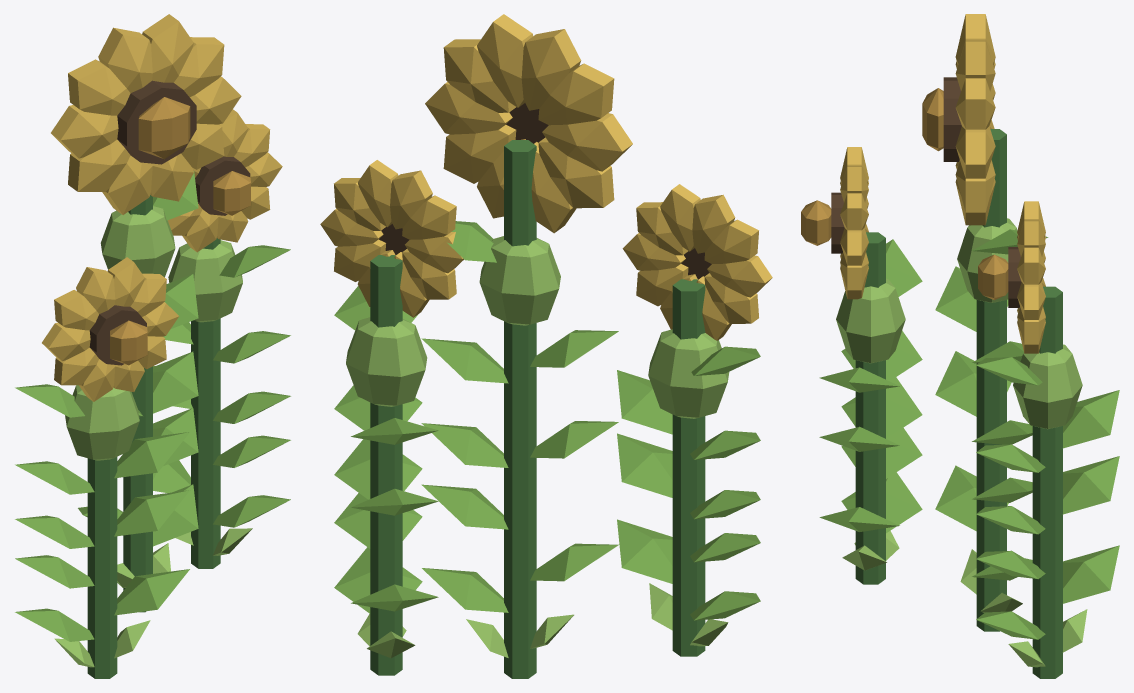
Rendered from sunflower.glb.
3 renders of one model, left to right at view 1: azimuth 30°, elevation 25°; view 2: azimuth 150°, elevation 25°; view 3: azimuth 270°, elevation 25°, orthographic. The views are drawn at different scales.
Parts seen in each view (by area): view 1: Sunflower_ripe_yellow_head, Sunflower_ripe_yellow_head.001, Sunflower_ripe_yellow_head.002, Sunflower_stem.007, Sunflower_stem.008, Sunflower_closed_bud.001, Sunflower_closed_bud, Sunflower_closed_bud.002, Sunflower_stem.011, Sunflower_stem.010, Sunflower_stem.005, Sunflower_seed_centre (+30 smaller); view 2: Sunflower_ripe_yellow_head, Sunflower_ripe_yellow_head.001, Sunflower_ripe_yellow_head.002, Sunflower_stem.009, Sunflower_stem.010, Sunflower_closed_bud.002, Sunflower_closed_bud, Sunflower_stem.006, Sunflower_closed_bud.001, Sunflower_stem.007, Sunflower_stem.008, Sunflower_stem.011 (+32 smaller); view 3: Sunflower_ripe_yellow_head, Sunflower_stem.009, Sunflower_stem.006, Sunflower_ripe_yellow_head.001, Sunflower_ripe_yellow_head.002, Sunflower_stem.007, Sunflower_stem.008, Sunflower_closed_bud.001, Sunflower_closed_bud.002, Sunflower_stem.010, Sunflower_stem.005, Sunflower_stem.011 (+34 smaller).
Boxes of the visible parts, left/top/right/bottom form: Sunflower_ripe_yellow_head: left=51, top=14, right=241, bottom=214; Sunflower_ripe_yellow_head.001: left=42, top=257, right=179, bottom=401; Sunflower_ripe_yellow_head.002: left=167, top=109, right=282, bottom=252; Sunflower_stem.007: left=87, top=457, right=117, bottom=677; Sunflower_stem.008: left=191, top=319, right=220, bottom=568; Sunflower_closed_bud.001: left=65, top=385, right=139, bottom=460; Sunflower_closed_bud: left=100, top=206, right=175, bottom=277; Sunflower_closed_bud.002: left=168, top=240, right=242, bottom=322; Sunflower_stem.011: left=191, top=238, right=220, bottom=568; Sunflower_stem.010: left=87, top=457, right=117, bottom=676; Sunflower_stem.005: left=191, top=448, right=220, bottom=568; Sunflower_seed_centre: left=138, top=97, right=190, bottom=159; Sunflower_ripe_yellow_head: left=425, top=14, right=632, bottom=233; Sunflower_ripe_yellow_head.001: left=622, top=184, right=772, bottom=340; Sunflower_ripe_yellow_head.002: left=320, top=160, right=463, bottom=317; Sunflower_stem.009: left=504, top=140, right=536, bottom=675; Sunflower_stem.010: left=672, top=279, right=705, bottom=655; Sunflower_closed_bud.002: left=346, top=317, right=427, bottom=406; Sunflower_closed_bud: left=479, top=236, right=560, bottom=325; Sunflower_stem.006: left=504, top=321, right=536, bottom=676; Sunflower_closed_bud.001: left=648, top=329, right=729, bottom=418; Sunflower_stem.007: left=672, top=414, right=705, bottom=656; Sunflower_stem.008: left=370, top=403, right=402, bottom=675; Sunflower_stem.011: left=370, top=255, right=402, bottom=674; Sunflower_ripe_yellow_head: left=943, top=14, right=995, bottom=225; Sunflower_stem.009: left=976, top=129, right=1006, bottom=629; Sunflower_stem.006: left=976, top=300, right=1006, bottom=629; Sunflower_ripe_yellow_head.001: left=831, top=147, right=868, bottom=299; Sunflower_ripe_yellow_head.002: left=1008, top=201, right=1045, bottom=353; Sunflower_stem.007: left=855, top=360, right=885, bottom=584; Sunflower_stem.008: left=1032, top=426, right=1062, bottom=626; Sunflower_closed_bud.001: left=836, top=278, right=905, bottom=363; Sunflower_closed_bud.002: left=1013, top=344, right=1082, bottom=429; Sunflower_stem.010: left=855, top=232, right=885, bottom=584; Sunflower_stem.005: left=1032, top=557, right=1062, bottom=678; Sunflower_stem.011: left=1033, top=286, right=1062, bottom=605.
Size of the model in its own units: 0.839 by 1.42 by 0.6842.
